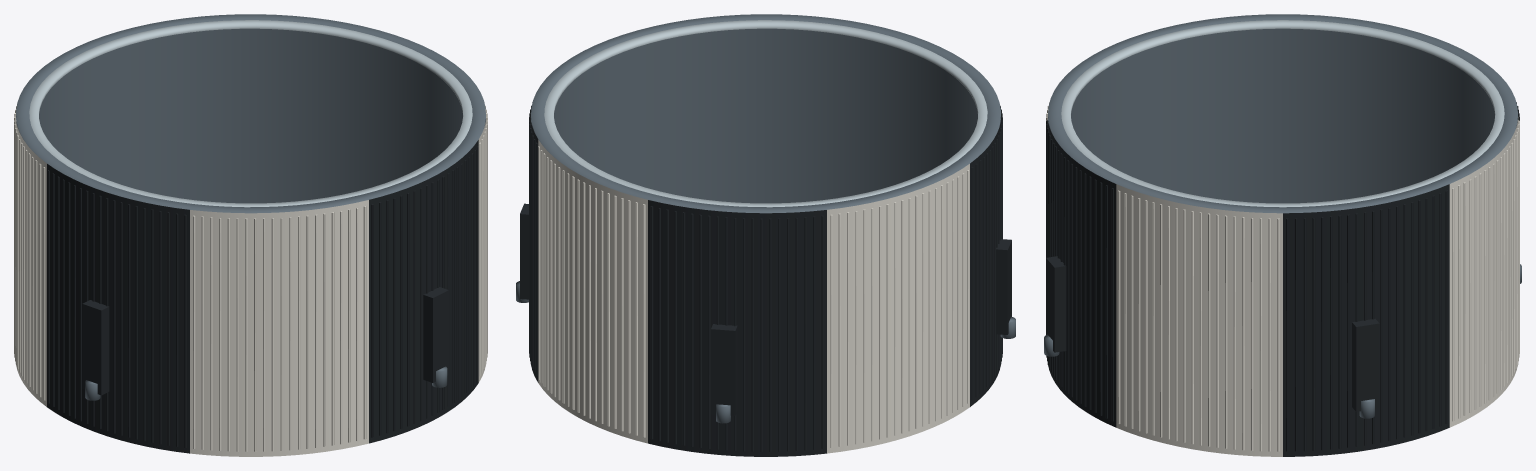
Rendered from saturn_ic_ii_interstage.glb.
The picture shows the model from 3 angles, left to right: view 1: azimuth 30°, elevation 25°; view 2: azimuth 150°, elevation 25°; view 3: azimuth 270°, elevation 25°; orthographic projection.
Parts seen in each view (by area): view 1: interstage_1_2mesh.mesh_Machined_steel, interstage_1_2mesh.mesh_Charcoal_paint, interstage_1_2mesh.mesh_Warm_white_paint, interstage_1_2mesh.mesh_Satin_aluminum, interstage_1_2ullage_motor_04mesh.mesh_Charcoal_paint, interstage_1_2ullage_motor_01mesh.mesh_Charcoal_paint; view 2: interstage_1_2mesh.mesh_Machined_steel, interstage_1_2mesh.mesh_Warm_white_paint, interstage_1_2mesh.mesh_Charcoal_paint, interstage_1_2mesh.mesh_Satin_aluminum, interstage_1_2ullage_motor_03mesh.mesh_Charcoal_paint, interstage_1_2ullage_motor_04mesh.mesh_Charcoal_paint, interstage_1_2ullage_motor_02mesh.mesh_Charcoal_paint; view 3: interstage_1_2mesh.mesh_Machined_steel, interstage_1_2mesh.mesh_Warm_white_paint, interstage_1_2mesh.mesh_Charcoal_paint, interstage_1_2mesh.mesh_Satin_aluminum, interstage_1_2ullage_motor_02mesh.mesh_Charcoal_paint, interstage_1_2ullage_motor_01mesh.mesh_Charcoal_paint.
Part boxes in pixels (x1=…): interstage_1_2mesh.mesh_Machined_steel: x1=16, y1=14, x2=485, y2=213; interstage_1_2mesh.mesh_Charcoal_paint: x1=47, y1=140, x2=478, y2=453; interstage_1_2mesh.mesh_Warm_white_paint: x1=14, y1=102, x2=487, y2=456; interstage_1_2mesh.mesh_Satin_aluminum: x1=29, y1=20, x2=472, y2=207; interstage_1_2ullage_motor_04mesh.mesh_Charcoal_paint: x1=82, y1=300, x2=109, y2=395; interstage_1_2ullage_motor_01mesh.mesh_Charcoal_paint: x1=423, y1=287, x2=448, y2=382; interstage_1_2mesh.mesh_Machined_steel: x1=531, y1=14, x2=1000, y2=213; interstage_1_2mesh.mesh_Warm_white_paint: x1=538, y1=140, x2=969, y2=453; interstage_1_2mesh.mesh_Charcoal_paint: x1=529, y1=102, x2=1002, y2=456; interstage_1_2mesh.mesh_Satin_aluminum: x1=544, y1=20, x2=987, y2=207; interstage_1_2ullage_motor_03mesh.mesh_Charcoal_paint: x1=711, y1=324, x2=737, y2=415; interstage_1_2ullage_motor_04mesh.mesh_Charcoal_paint: x1=996, y1=239, x2=1011, y2=334; interstage_1_2ullage_motor_02mesh.mesh_Charcoal_paint: x1=520, y1=203, x2=528, y2=299; interstage_1_2mesh.mesh_Machined_steel: x1=1048, y1=14, x2=1517, y2=213; interstage_1_2mesh.mesh_Warm_white_paint: x1=1046, y1=102, x2=1519, y2=456; interstage_1_2mesh.mesh_Charcoal_paint: x1=1046, y1=102, x2=1519, y2=456; interstage_1_2mesh.mesh_Satin_aluminum: x1=1061, y1=20, x2=1504, y2=207; interstage_1_2ullage_motor_02mesh.mesh_Charcoal_paint: x1=1352, y1=318, x2=1379, y2=411; interstage_1_2ullage_motor_01mesh.mesh_Charcoal_paint: x1=1046, y1=256, x2=1066, y2=352.
Size of the model in its own units: 10.19 by 5.74 by 10.19.
